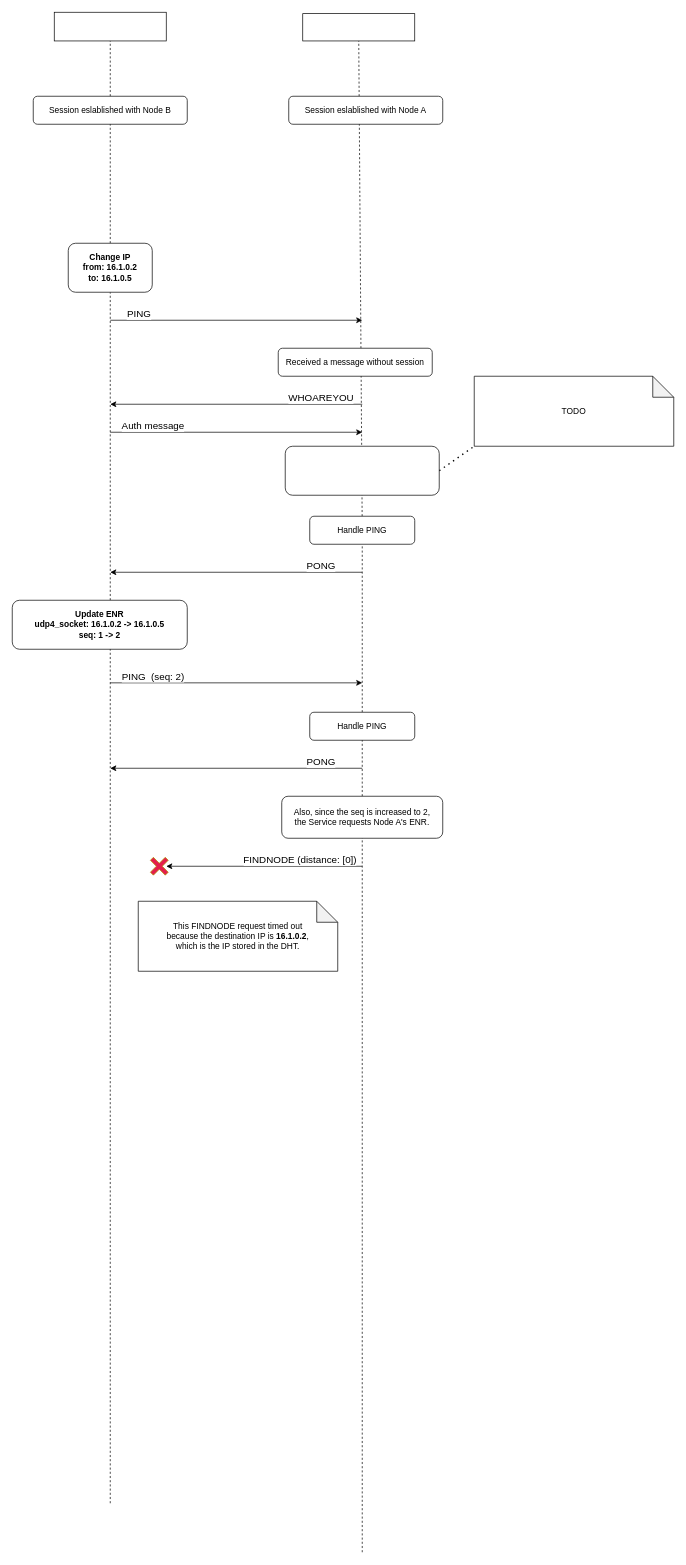
Some shapes in this 686 by 1565 pixel diagram are drawn without their labels. Here are the shapes that lost their labels. From the top down, the box of each, then its label:
(54, 12, 166, 41): Node A
(302, 13, 415, 41): Node B
(285, 446, 439, 495): Session has invalid ENR enr.up4_socket: 16.1.0.2 src: 16.1.0.5
